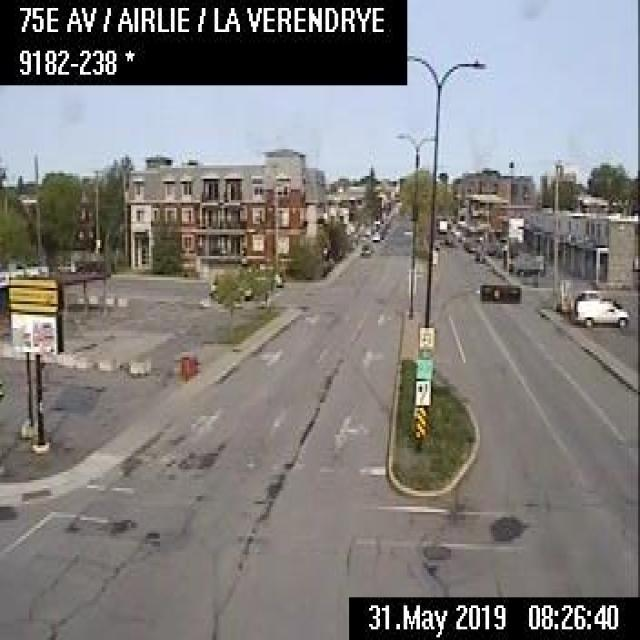construction: (180, 354, 188, 380), (186, 352, 194, 374)
vehicle: (575, 294, 629, 328), (514, 257, 546, 275), (463, 238, 480, 253), (444, 232, 458, 246), (358, 242, 371, 256), (370, 230, 379, 239)
